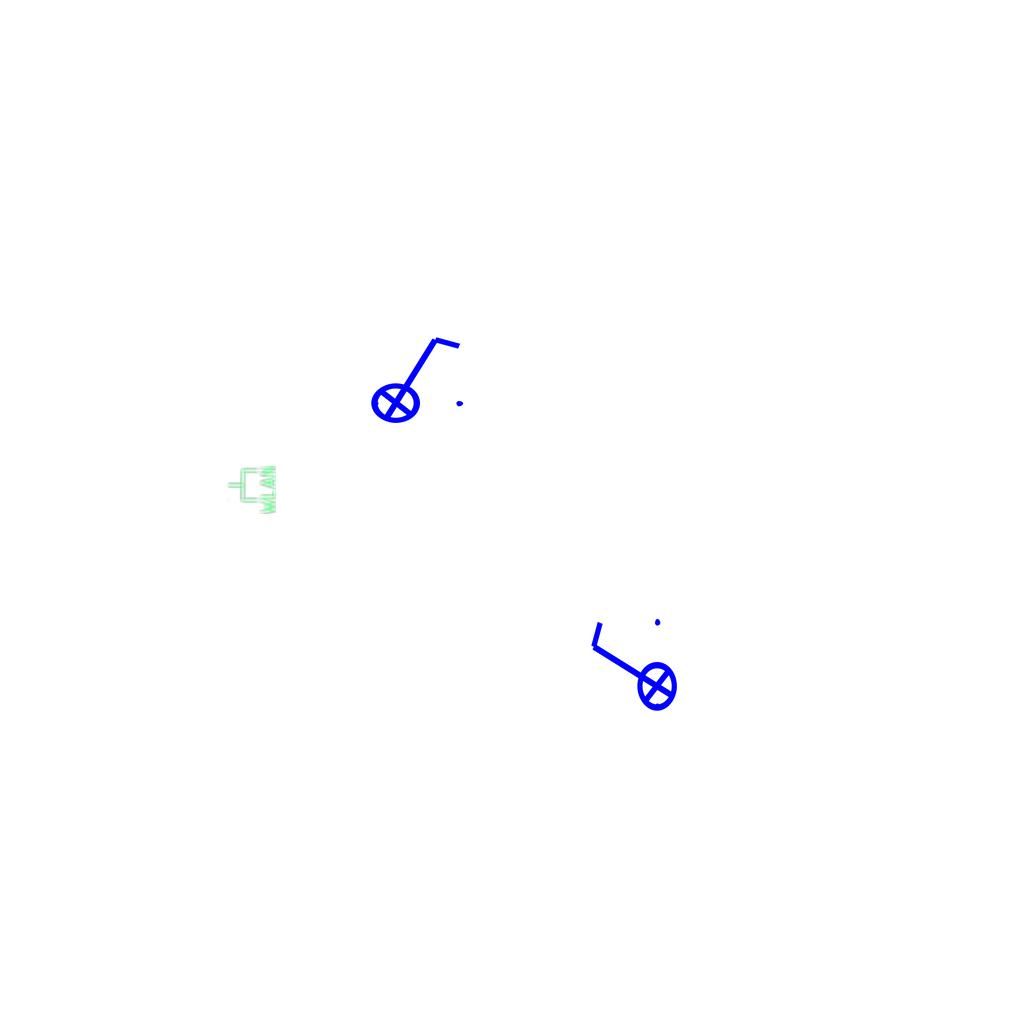Ausschalter_beleuchtet: (357, 329, 469, 425), (583, 613, 679, 725)
WLAN: (226, 464, 278, 516)
